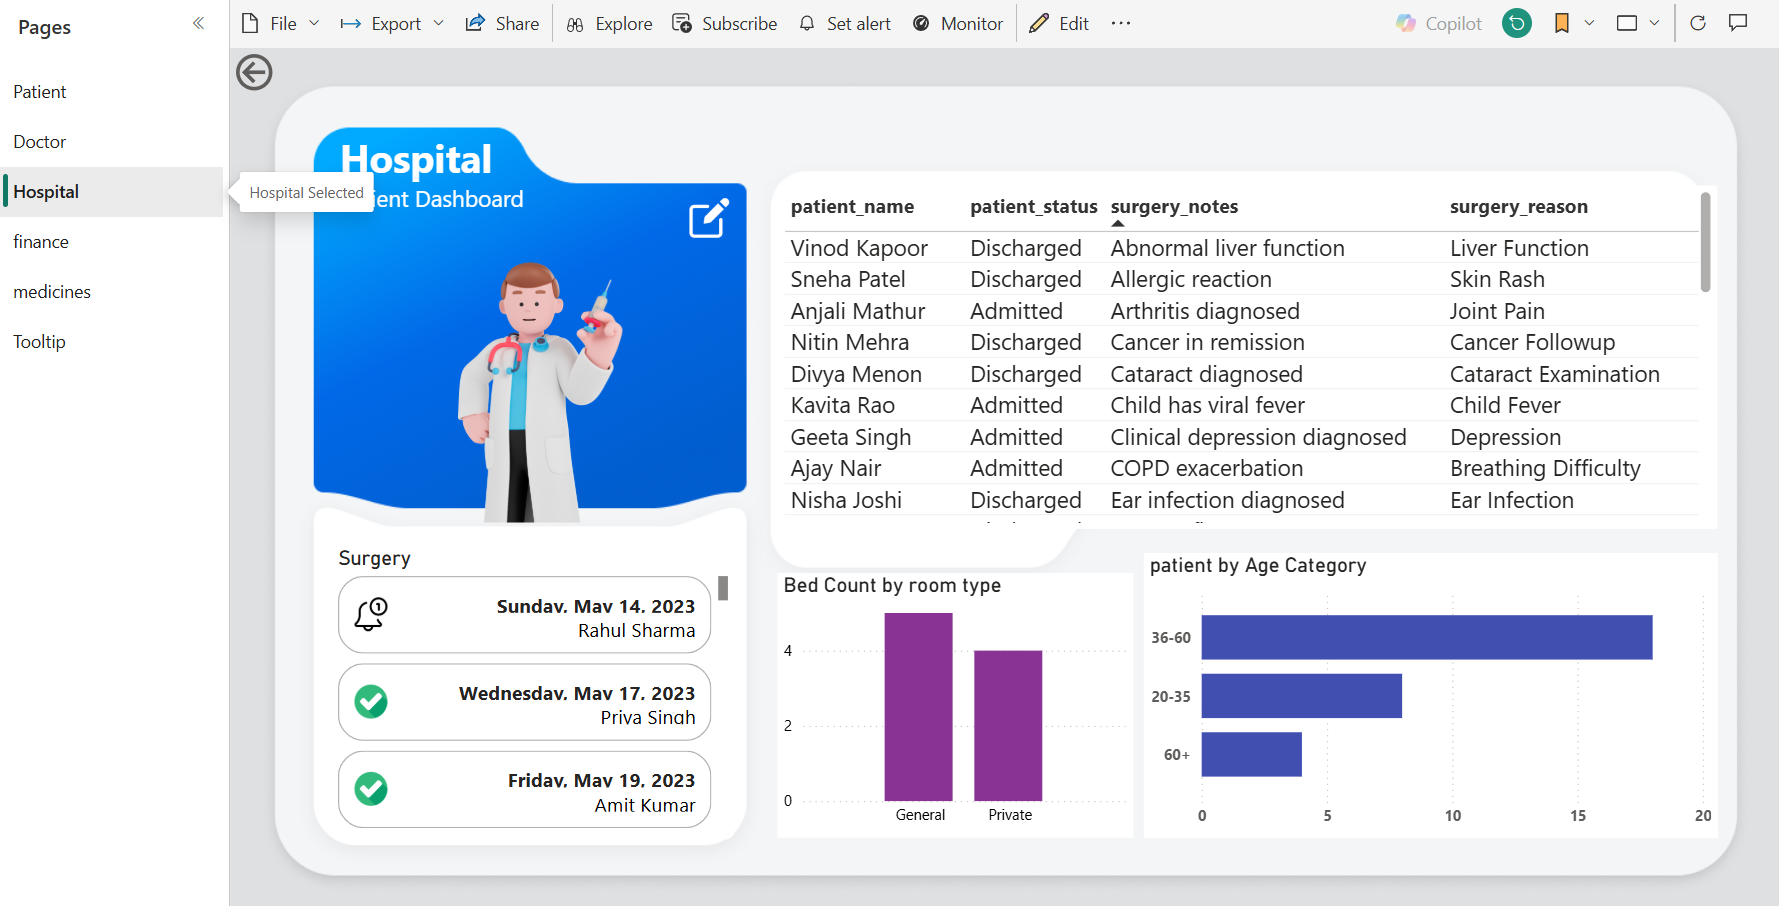

The page's visual inventory and layout, read from the dashboard file:
{"tool":"powerbi","page":{"name":"Hospital","canvas":[1280,720],"ordinal":2},"visuals":[{"type":"textbox","box":[85.3,64,335.6,98.1],"z":0},{"type":"image","box":[370.5,124.2,50.5,32.6],"z":1000},{"type":"image","box":[138.5,139.9,225.1,277],"z":2000},{"type":"advancedSlicerVisual","title":"Surgery","fields":{"Label":["Min(patient_detailss.Age Category)"],"Values":["patient_detailss.surgery_appointment_date"]},"box":[83.9,405.1,333.2,246.9],"z":3000},{"type":"actionButton","box":[0,0,100,40],"z":4000},{"type":"clusteredBarChart","title":"patient by Age Category","fields":{"Category":["patient_detailss.Age Category"],"Y":["_measures.patient_count"]},"box":[753.3,416.7,473.3,235],"z":5000},{"type":"tableEx","fields":{"Values":["patient_detailss.patient_name","patient_detailss.patient_status","patient_detailss.surgery_notes","patient_detailss.surgery_reason"]},"box":[451.7,113.3,775,283.3],"z":6000},{"type":"columnChart","title":"Bed Count by room type","fields":{"Category":["patient_detailss.room_room_type"],"Y":["CountNonNull(patient_detailss.beds_bed_id)"]},"box":[451.7,433.3,293.3,218.3],"z":7000}]}

Visuals, with their boxes on the page's 1280x720 design canvas (x1, y1, x2, y2). These are canvas units, not pixel positions in the 1779x906 screenshot, which may show the page scaled, cropped or inside an application window:
textbox: region(85, 64, 421, 162)
image: region(370, 124, 421, 157)
image: region(138, 140, 364, 417)
"Surgery" advancedSlicerVisual: region(84, 405, 417, 652)
actionButton: region(0, 0, 100, 40)
"patient by Age Category" clusteredBarChart: region(753, 417, 1227, 652)
tableEx - patient_detailss.patient_name x patient_detailss.patient_status: region(452, 113, 1227, 397)
"Bed Count by room type" columnChart: region(452, 433, 745, 652)
